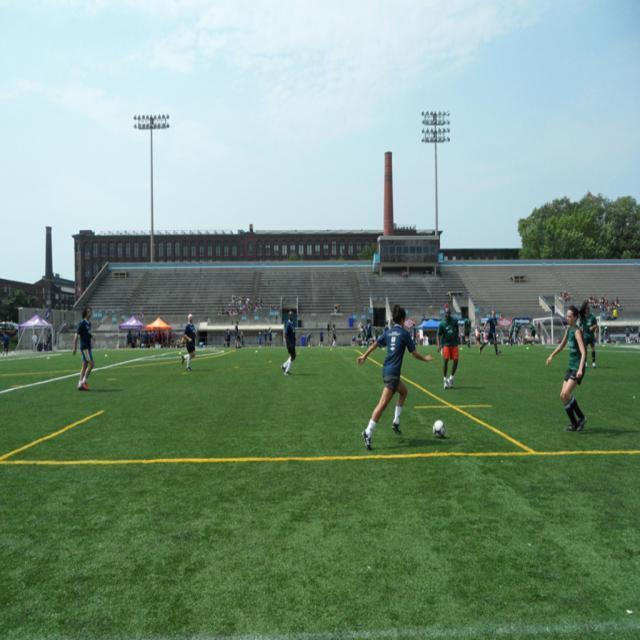football: (430, 417, 454, 437)
